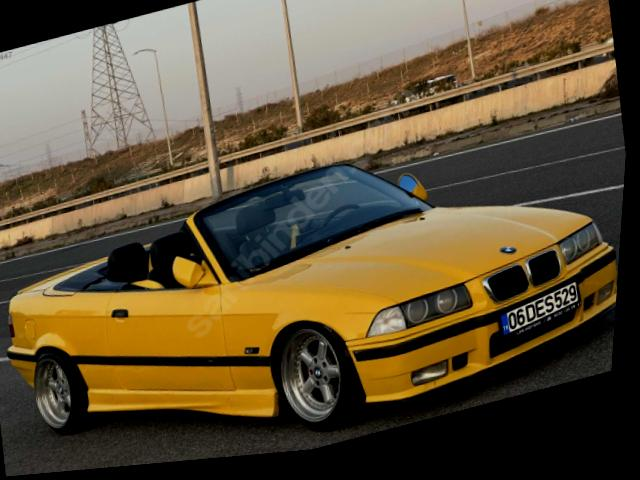plaka: (500, 281, 580, 335)
